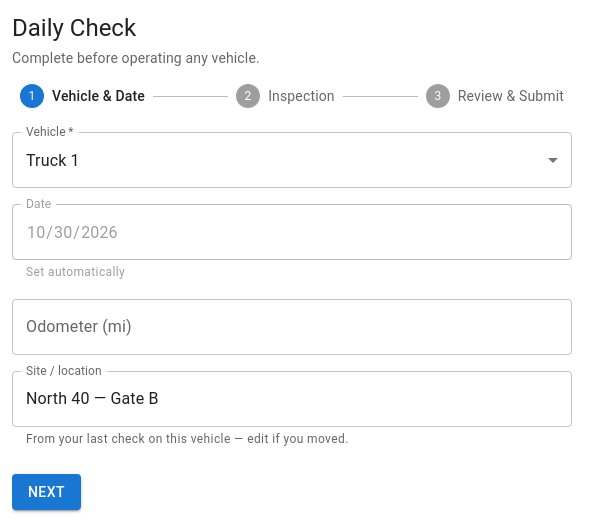
CC-32 (2.2) the site is pre-filled from the last check on this vehicle › does NOT carry one vehicle's prefilled site into another vehicle's check
Expected: the field labelled "Site / location" holds "North 40 — Gate B", [12, 371, 572, 427]
Press the mouse on the dropdown: coordinates (53, 160) [26, 150, 80, 170]
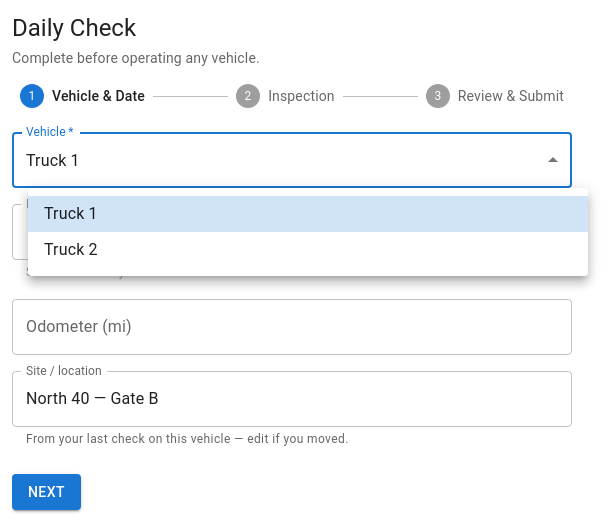
Click the option "Truck 2": coordinates (71, 250) [44, 240, 98, 259]
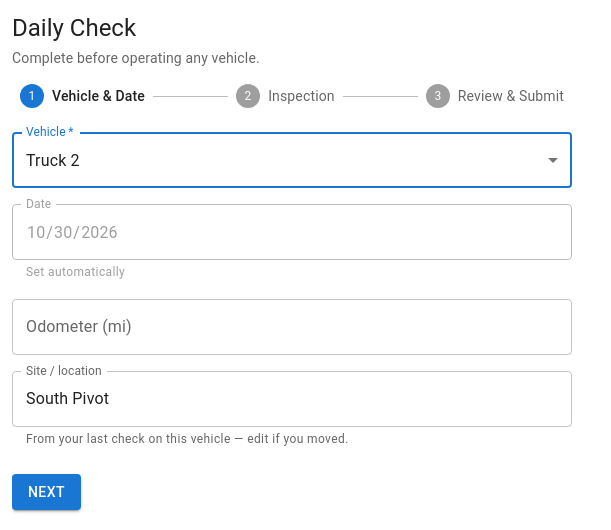
Expected: the field labelled "Site / location" holds "South Pivot", [12, 371, 572, 427]
